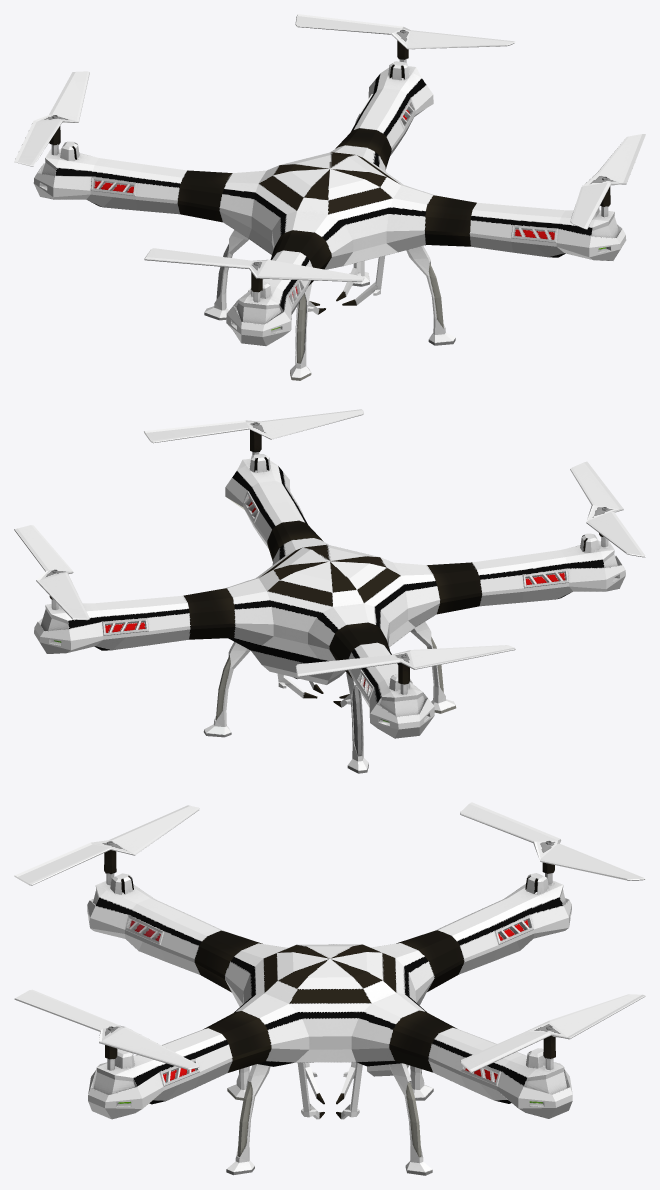
The model's file is Dronev1.FBX.
3 renders of one model, top to bottom at view 1: azimuth 30°, elevation 25°; view 2: azimuth 150°, elevation 25°; view 3: azimuth 270°, elevation 25°, orthographic. The views are drawn at different scales.
Visible parts, largest first — view 1: Dronev1_UV, Blade4, Blade2, Blade1, Blade3; view 2: Dronev1_UV, Blade1, Blade3, Blade2, Blade4; view 3: Dronev1_UV, Blade2, Blade4, Blade1, Blade3.
Boxes of the visible parts, x1,y1,x2,y2 form: Dronev1_UV: [33, 29, 626, 380]; Blade4: [295, 14, 515, 49]; Blade2: [144, 248, 364, 281]; Blade1: [14, 71, 89, 166]; Blade3: [570, 134, 645, 229]; Dronev1_UV: [34, 422, 625, 773]; Blade1: [295, 645, 515, 677]; Blade3: [144, 409, 363, 443]; Blade2: [570, 461, 645, 557]; Blade4: [14, 525, 89, 620]; Dronev1_UV: [87, 840, 572, 1175]; Blade2: [14, 805, 199, 885]; Blade4: [460, 994, 645, 1072]; Blade1: [460, 802, 645, 880]; Blade3: [14, 989, 199, 1069].
Size of the model in its own units: 109 by 37.76 by 109.
